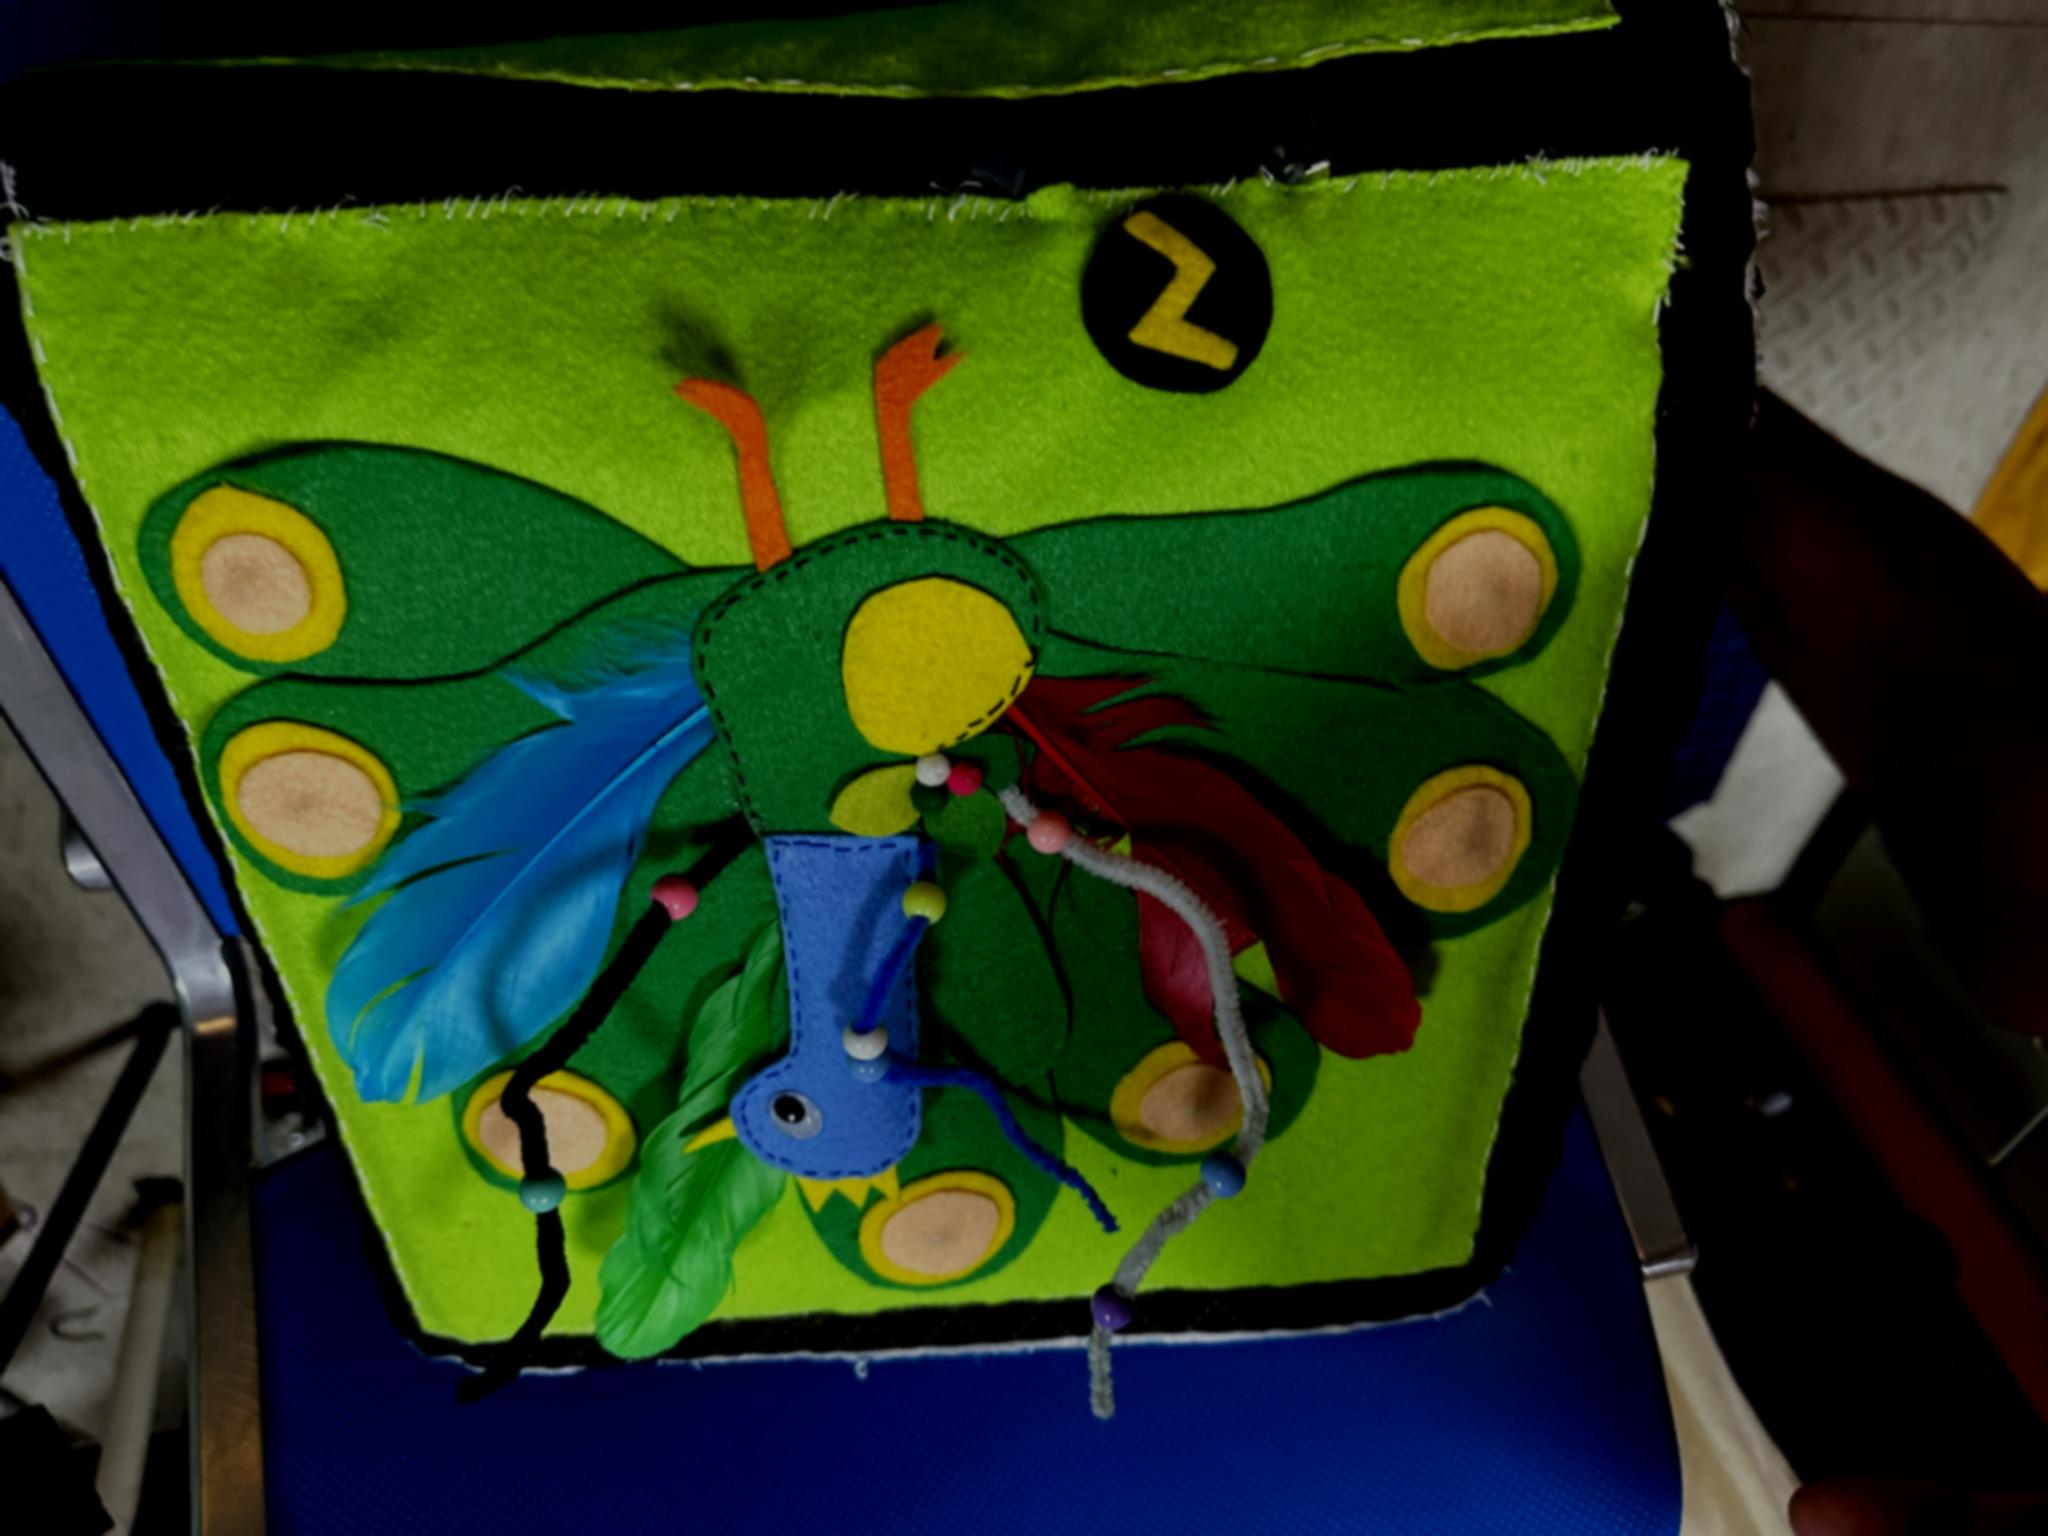bead: (508, 1162, 581, 1225), (640, 873, 701, 933), (893, 876, 963, 928), (1192, 1147, 1253, 1205), (1079, 1284, 1137, 1339), (835, 1020, 898, 1068), (1019, 808, 1074, 862), (847, 1063, 901, 1087)
